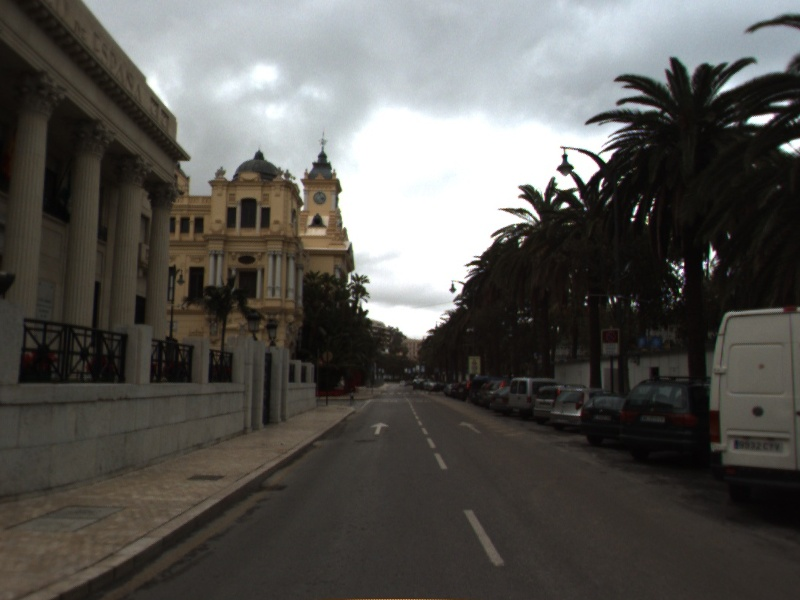STRAIGHT: (457, 419, 485, 436), (368, 420, 391, 437)
